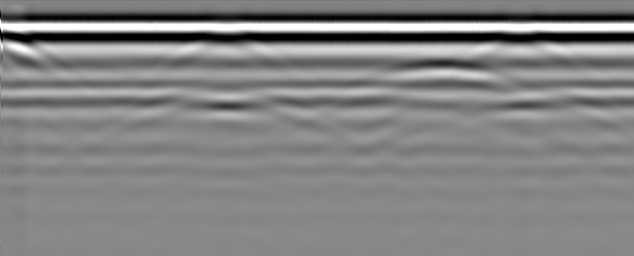pipe: (1, 30, 38, 48)
